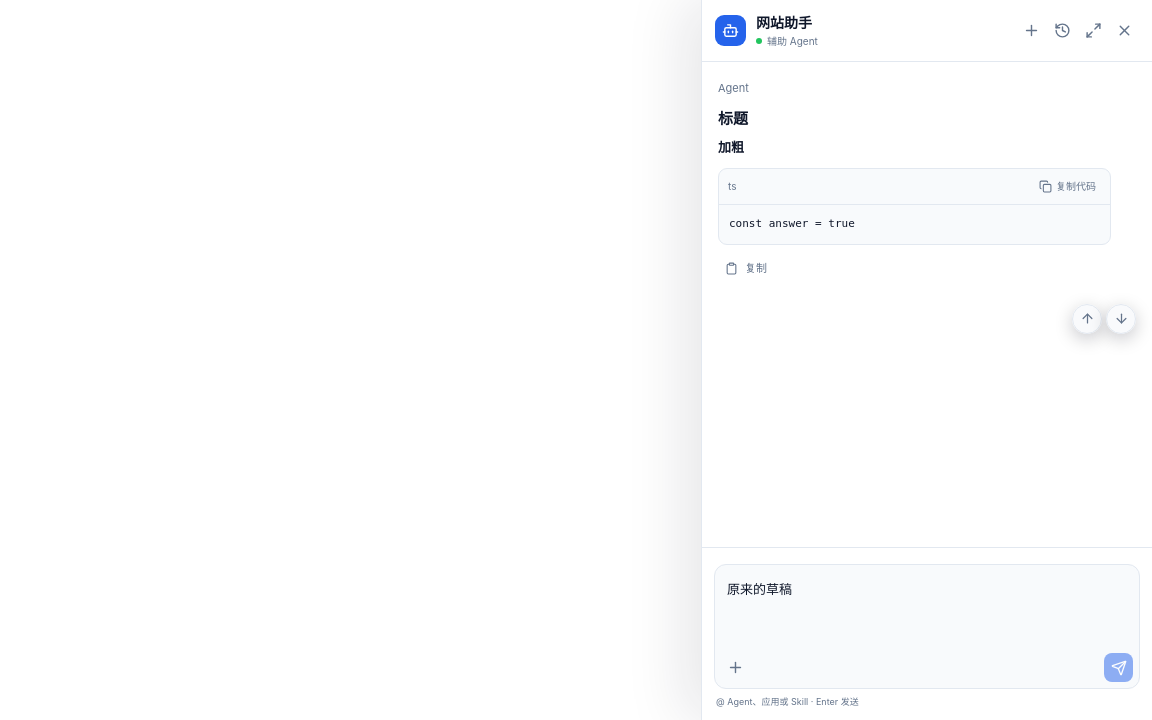
Scenario: AgentSidebar › offers conversation-based Skill creation without losing the current draft
What coordinates should you click on to do the following:
click the button named "添加材料或能力"
I would click on:
 (736, 668)
Its box is [721,653,750,682].
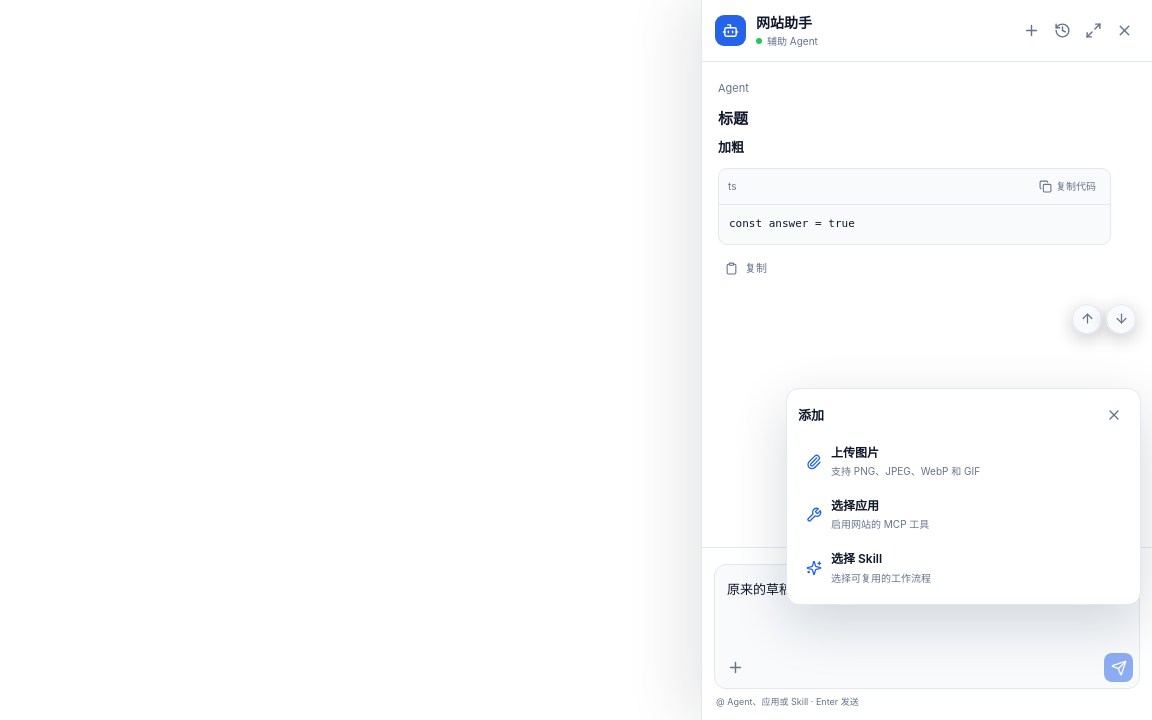
What coordinates should you click on to do the following:
click the button "选择 Skill 选择可复用的工作流程"
I would click on:
 (857, 558)
Its box is [798,543,1129,593].
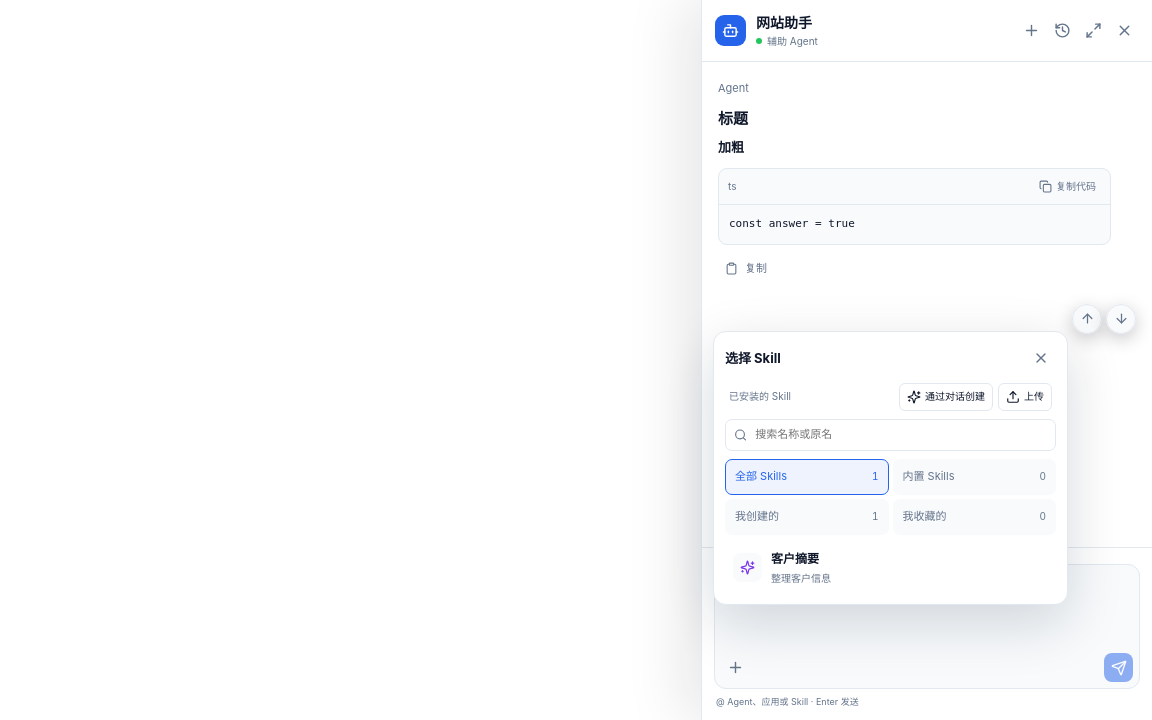
What coordinates should you click on to do the following:
click the button "通过对话创建"
I would click on:
 (946, 397)
Its box is [899,383,993,411].
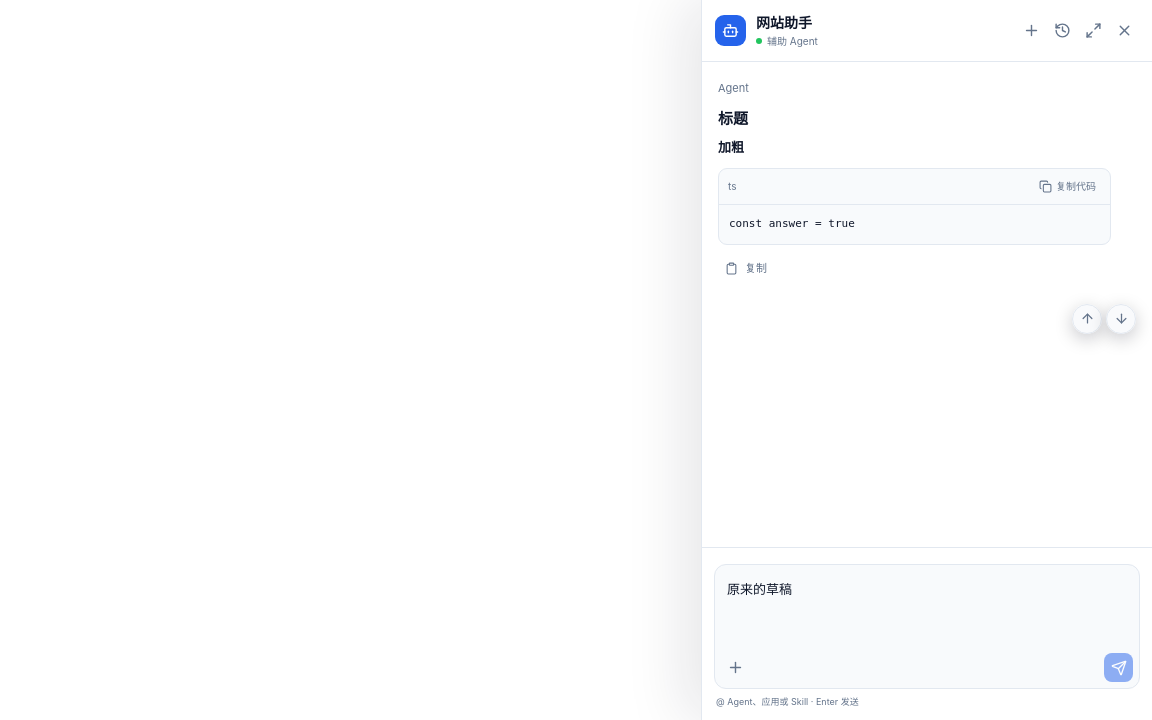
Result: the button "通过对话创建" is gone
